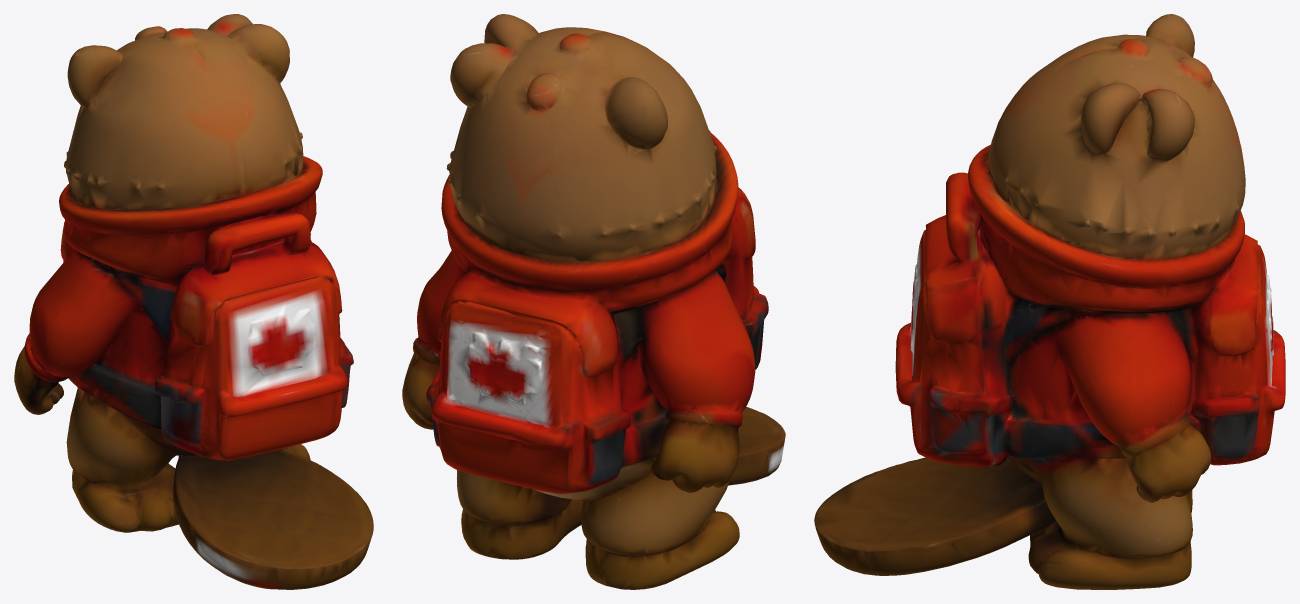
File: visitor_beavor.glb
3 views of the same model, side by side, from view 1: azimuth 30°, elevation 25°; view 2: azimuth 150°, elevation 25°; view 3: azimuth 270°, elevation 25° (orthographic). The views are drawn at different scales.
Visible parts, largest first — view 1: node_0; view 2: node_0; view 3: node_0.
Boxes of the visible parts, x1=… form: node_0: x1=14, y1=14, x2=373, y2=589; node_0: x1=402, y1=14, x2=785, y2=589; node_0: x1=814, y1=14, x2=1285, y2=589.
Size of the model in its own units: 0.1903 by 0.2888 by 0.2442.
Materials: 1 (1 with a texture image).
